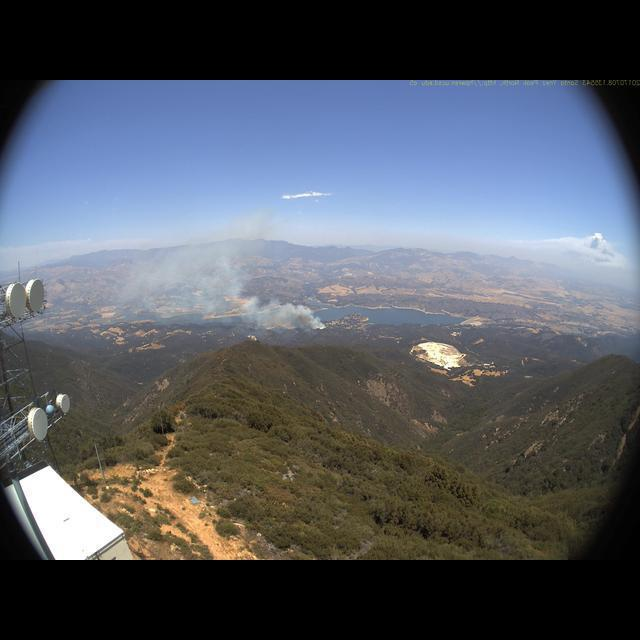Smoke: (106, 208, 326, 333)
